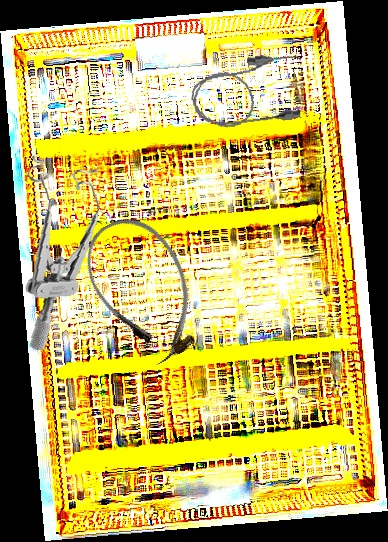Cannula: (70, 203, 217, 376), (186, 49, 310, 135)
Speculum: (13, 147, 114, 354)
